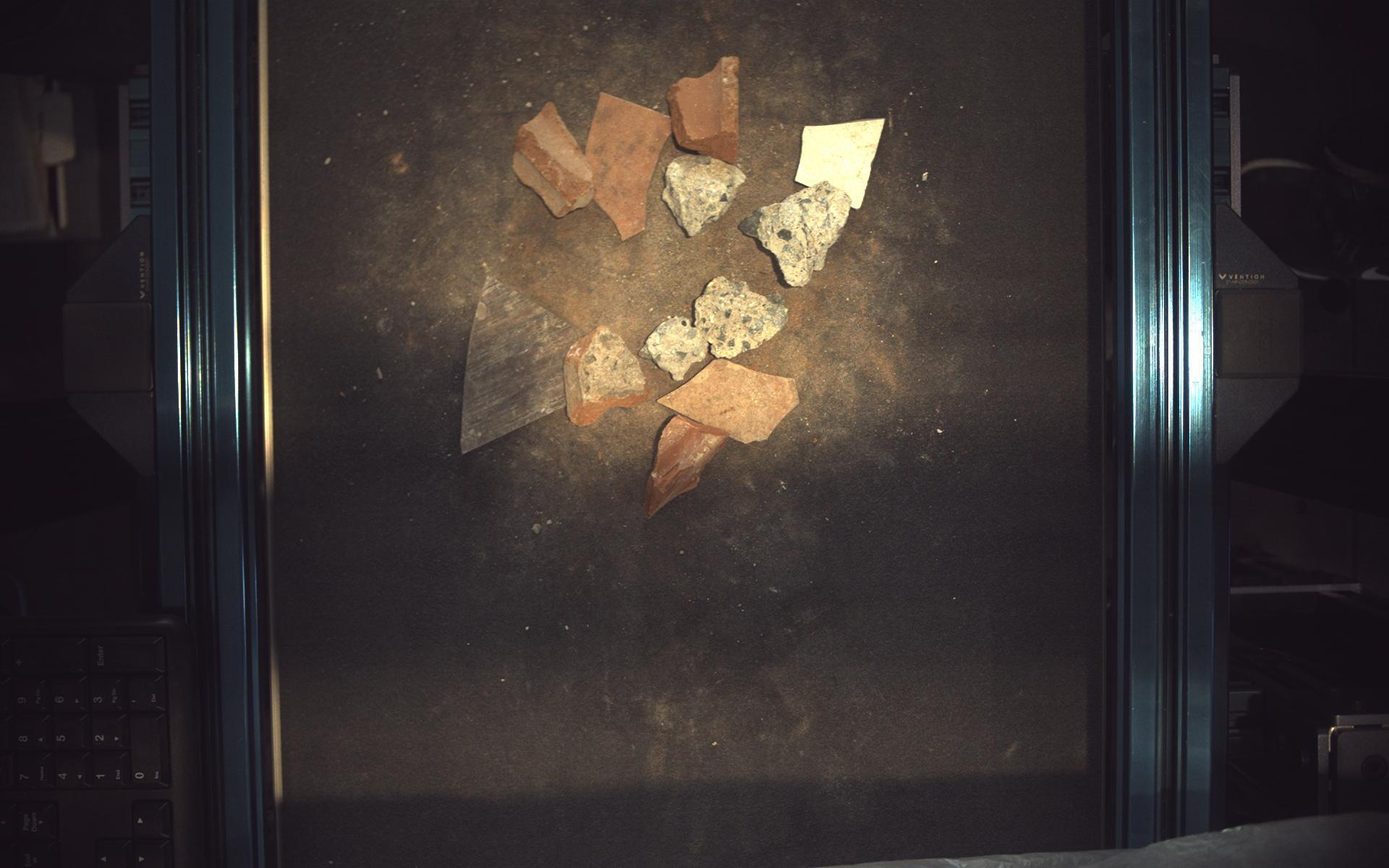brick: (513, 101, 595, 217), (644, 415, 730, 518), (564, 325, 651, 426), (668, 55, 740, 163)
concrete: (740, 181, 852, 286), (695, 276, 789, 358), (663, 153, 747, 237), (643, 316, 710, 381)
tile: (461, 276, 583, 454), (586, 92, 672, 239), (660, 359, 799, 443), (797, 117, 886, 208)
